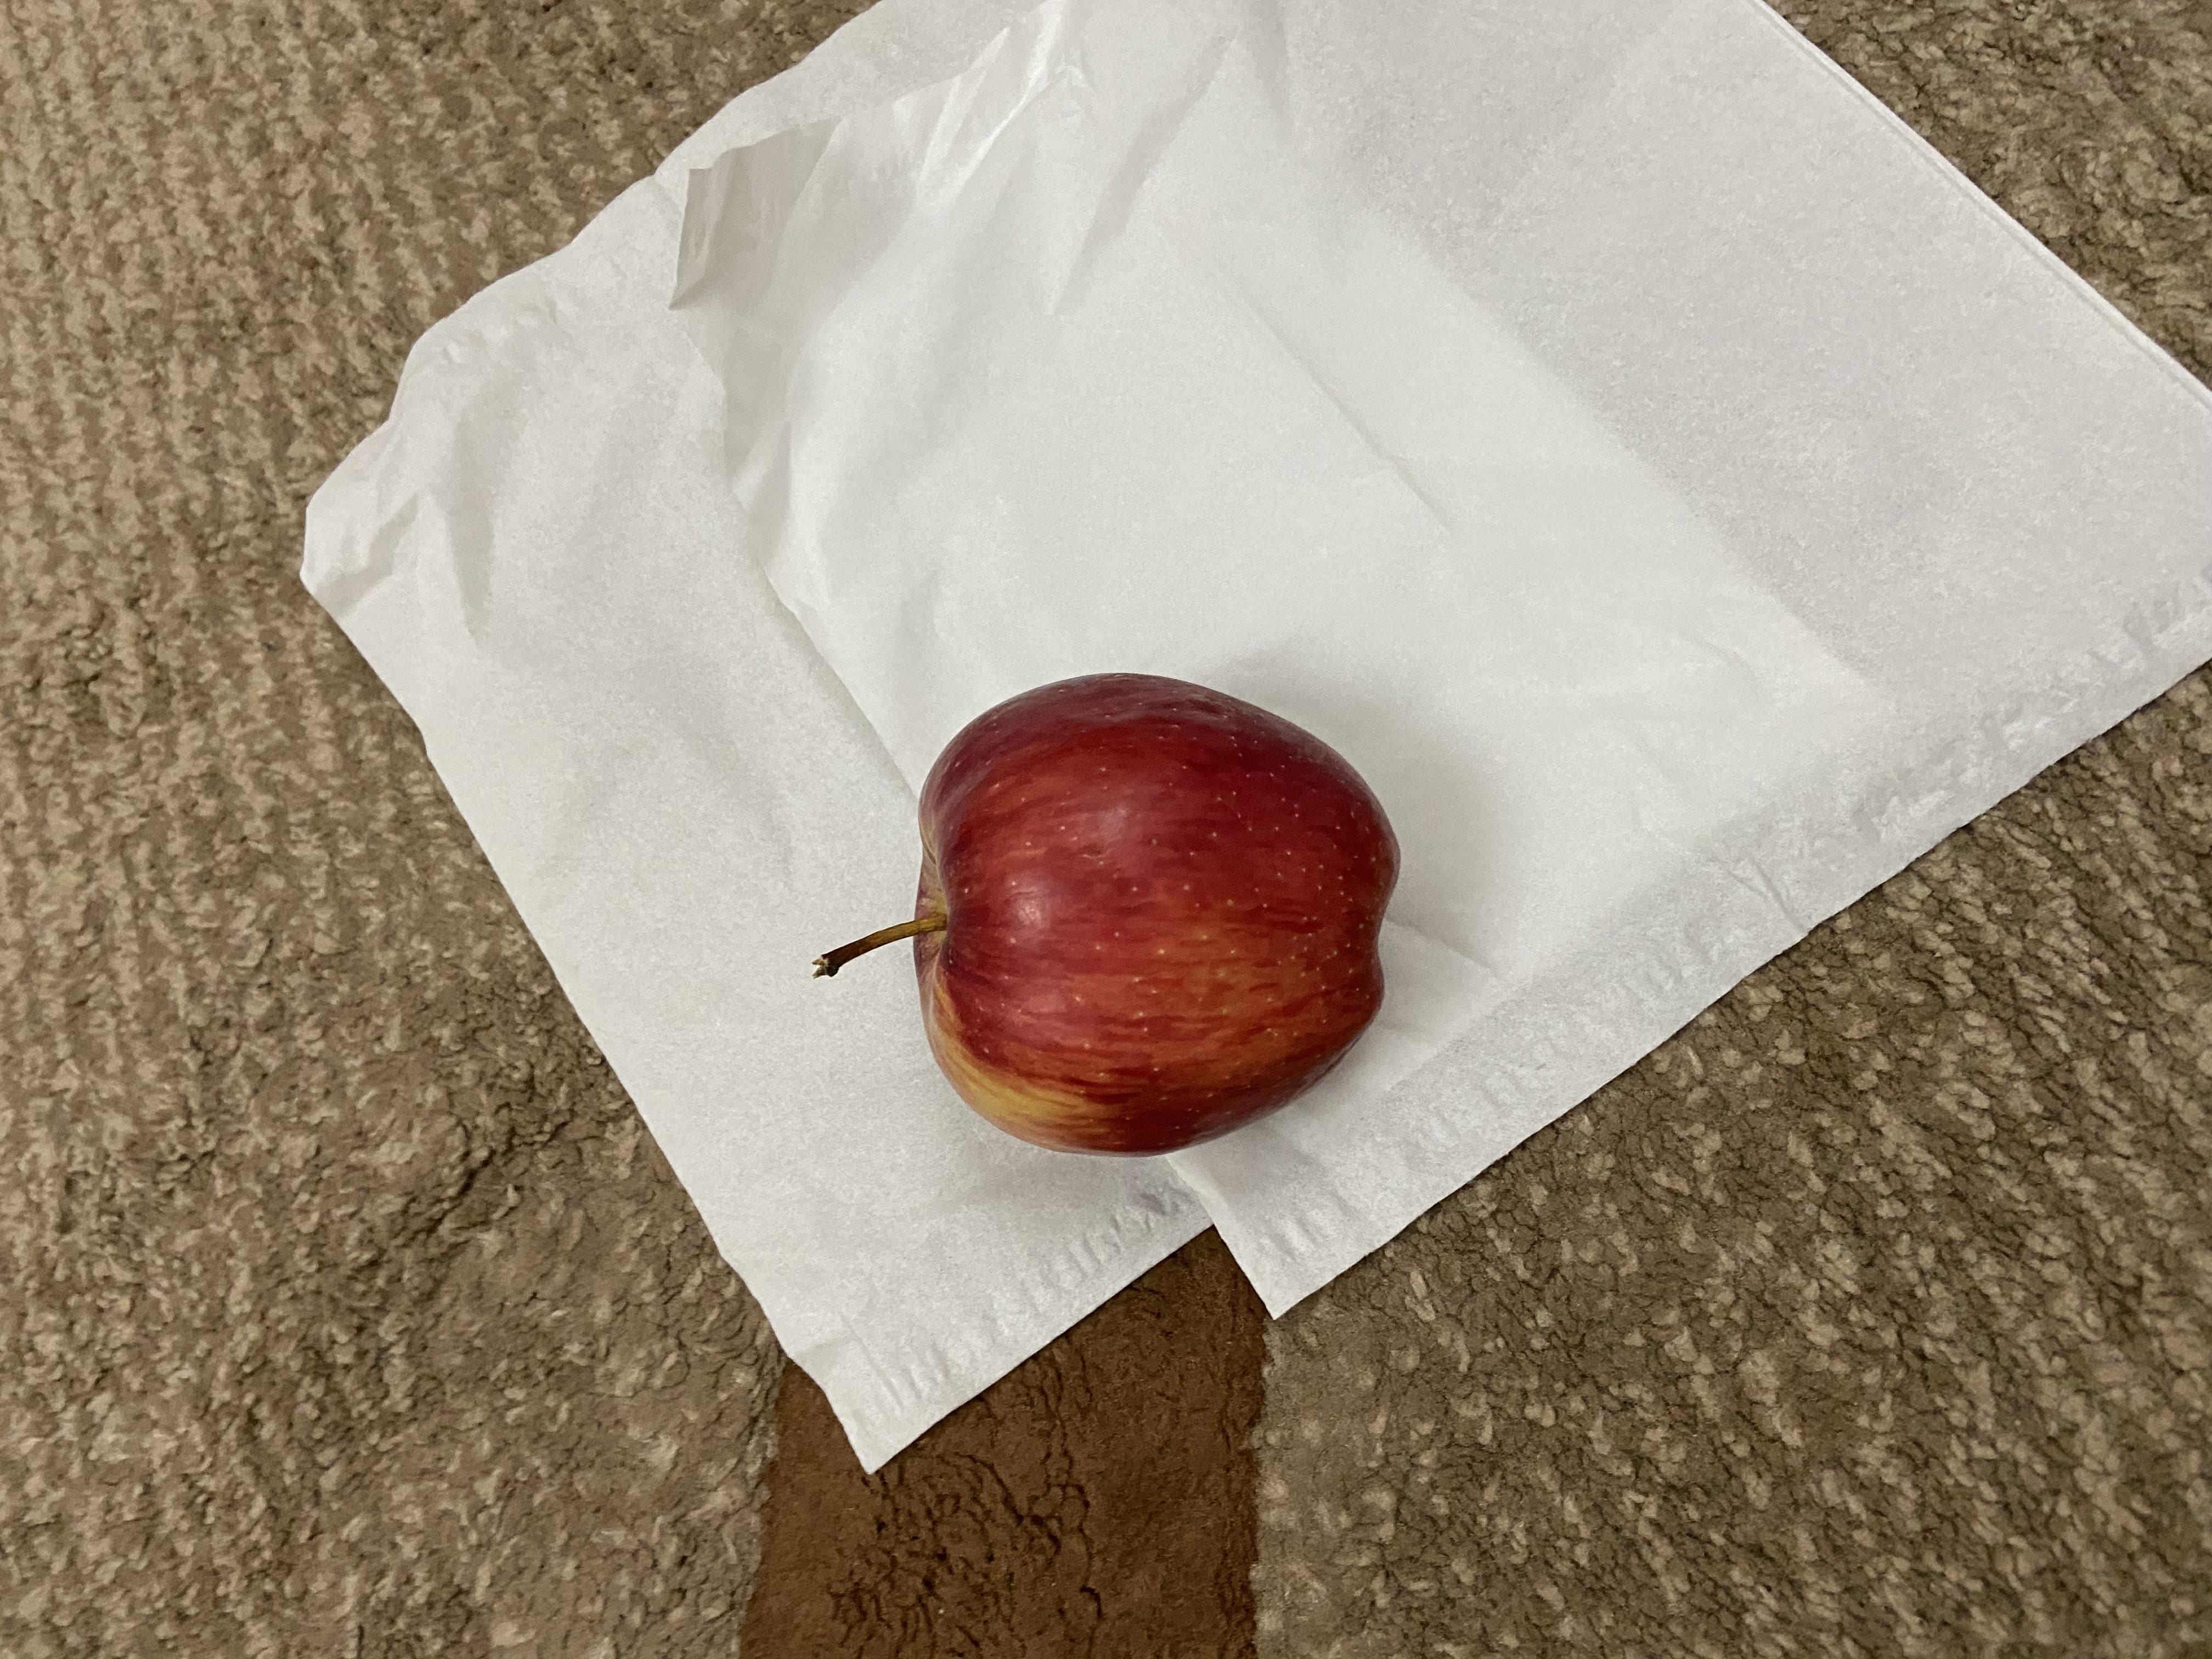Apple: (676, 589, 1325, 1058)
